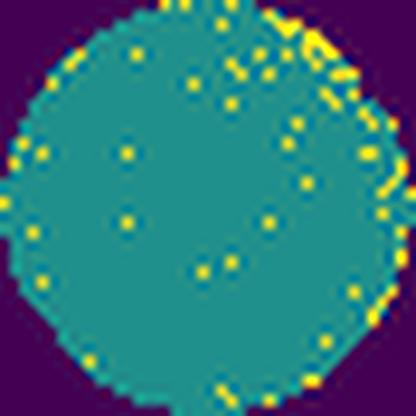Edge-Loc: (302, 28, 340, 70), (260, 10, 303, 38)
